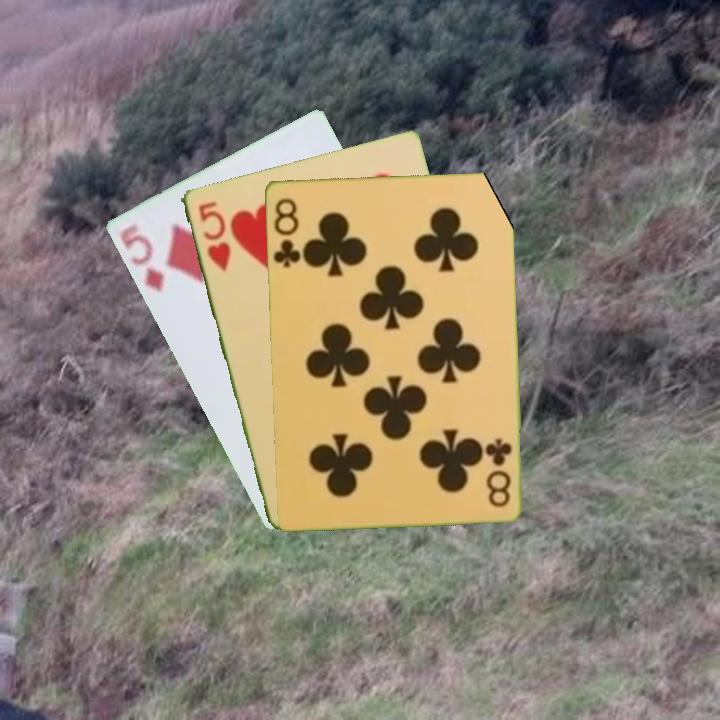5d: (116, 220, 166, 296)
5h: (194, 197, 233, 274)
8c: (269, 194, 303, 270), (483, 434, 514, 510)
